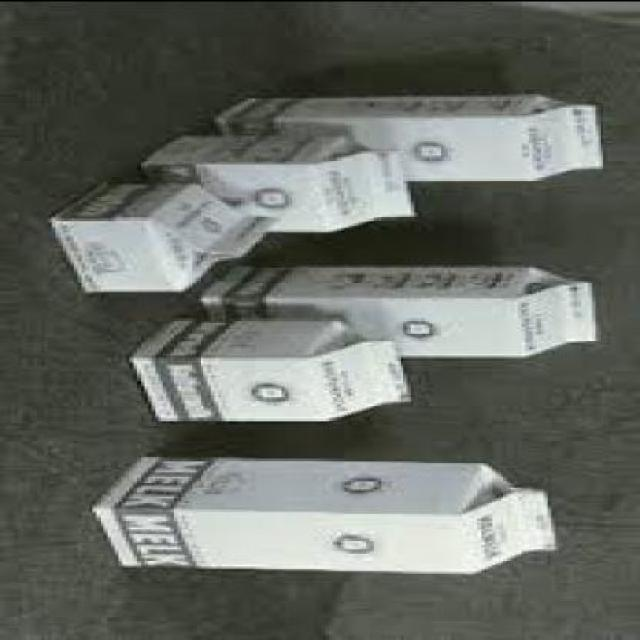CARDBOARD: (92, 455, 566, 563), (200, 261, 606, 354), (219, 90, 606, 178), (125, 314, 418, 418), (137, 130, 426, 233), (49, 178, 278, 288)
